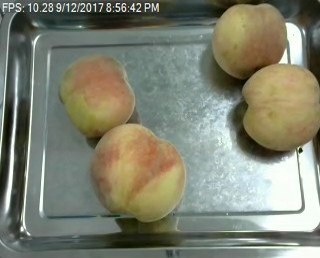Peach: (90, 122, 184, 221), (240, 62, 320, 152), (60, 52, 137, 138), (211, 2, 288, 79)
